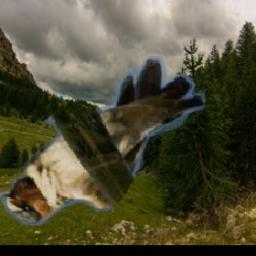Swallow: (0, 56, 206, 225)
